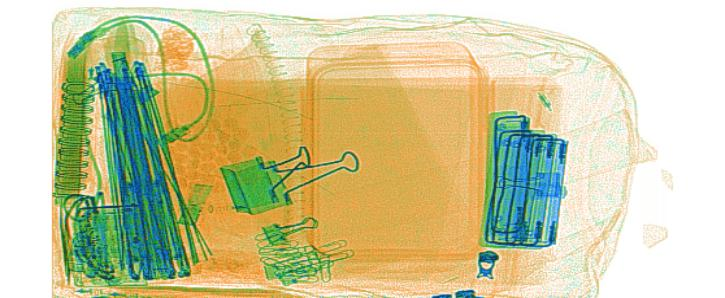USBFlashDisk: (175, 181, 214, 226)
